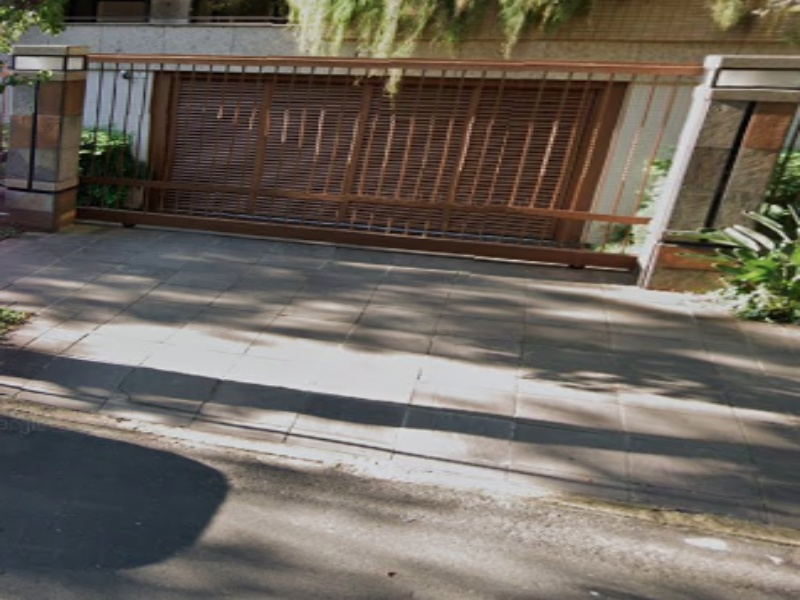g31: (11, 328, 660, 561)
